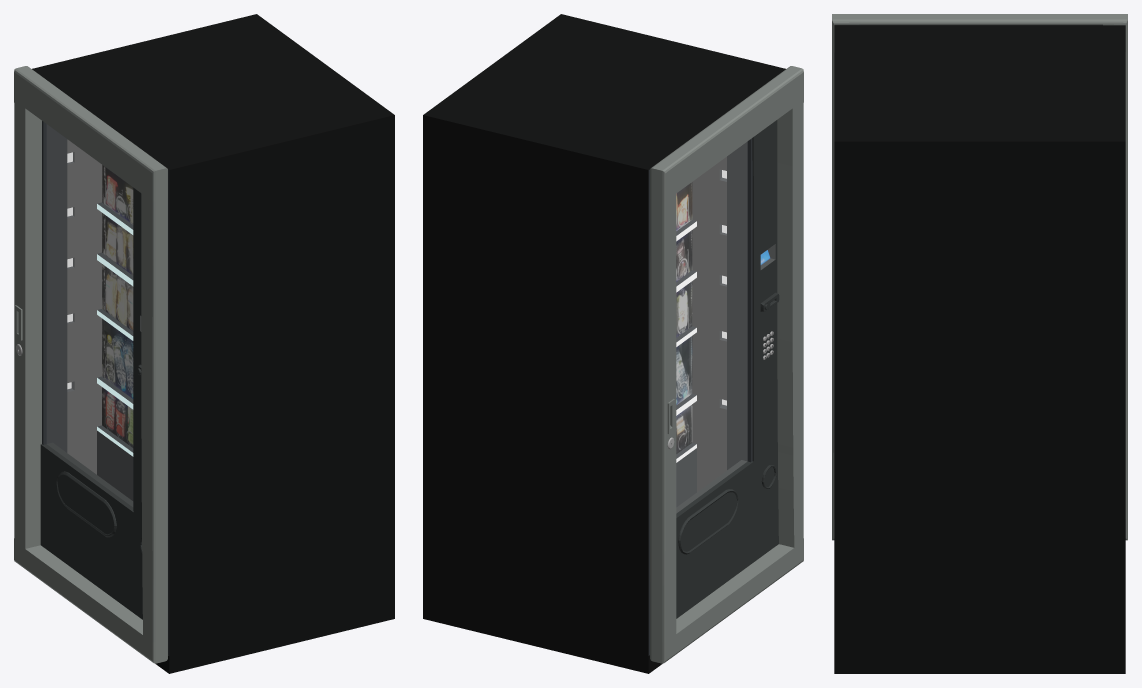
File: vending_machine.glb
3 views of the same model, side by side, from view 1: azimuth 30°, elevation 25°; view 2: azimuth 150°, elevation 25°; view 3: azimuth 270°, elevation 25° (orthographic). The views are drawn at different scales.
Parts seen in each view (by area): view 1: Vending Machine, Vending Machine.018, Vending Machine.005, Vending Machine.002; view 2: Vending Machine, Vending Machine.018, Vending Machine.005, Vending Machine.002; view 3: Vending Machine, Vending Machine.018.
Part boxes in pixels (box(x1,y1,x2,y2)): Vending Machine: box(32, 14, 394, 673); Vending Machine.018: box(14, 66, 167, 663); Vending Machine.005: box(47, 125, 132, 506); Vending Machine.002: box(57, 474, 114, 534); Vending Machine: box(423, 14, 785, 673); Vending Machine.018: box(650, 66, 803, 663); Vending Machine.005: box(676, 142, 747, 512); Vending Machine.002: box(680, 492, 736, 551); Vending Machine: box(834, 25, 1125, 673); Vending Machine.018: box(832, 14, 1127, 540).
Bounding box in the file's own units: 1.05 × 2.08 × 1.04.
Materials: 17 (2 with a texture image).
